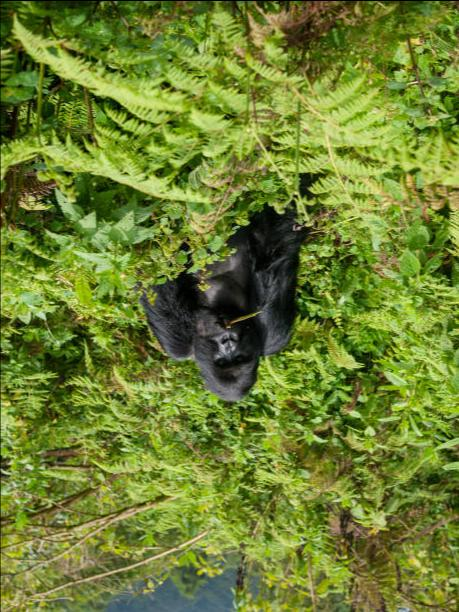goriile_montagne: (136, 171, 296, 410)
